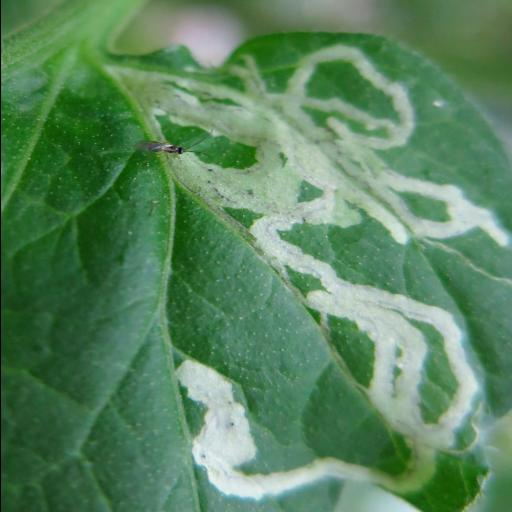disease_tomato: (100, 33, 512, 512)
